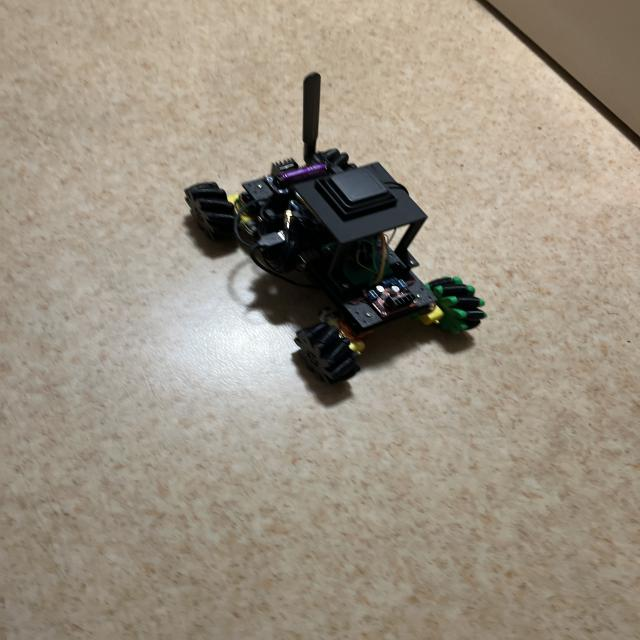robot: (185, 73, 485, 383)
